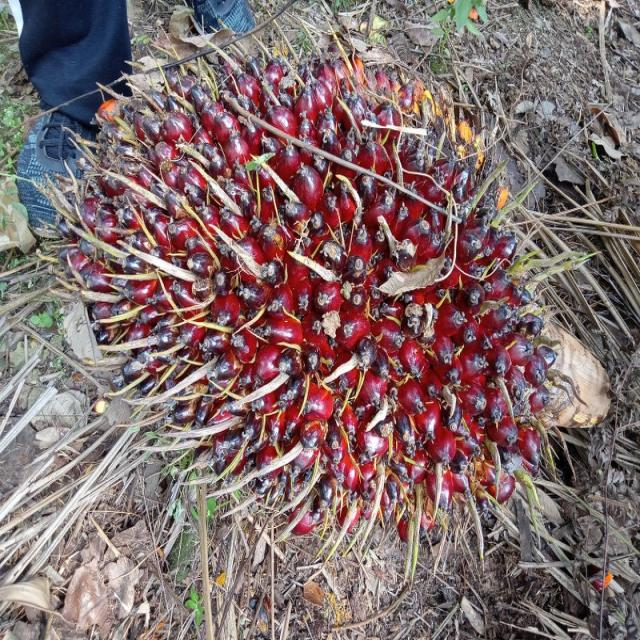fraksi 1: (86, 44, 559, 550)
